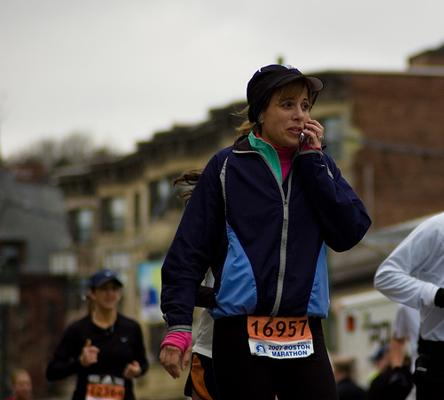person: (158, 66, 371, 400)
